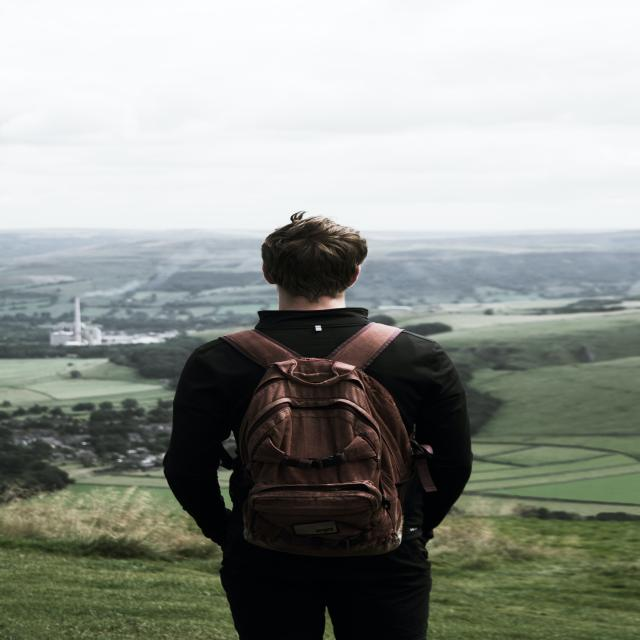backpack: (204, 321, 416, 556)
